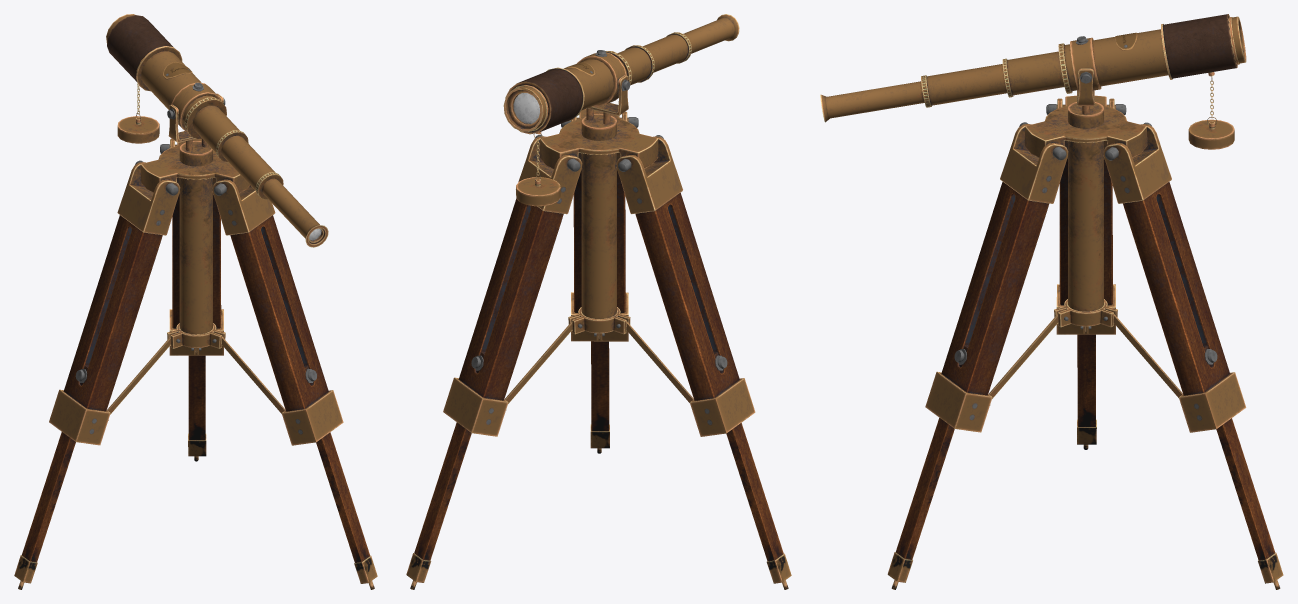
Rendered from Teleskope.fbx.
3 renders of one model, left to right at view 1: azimuth 30°, elevation 25°; view 2: azimuth 150°, elevation 25°; view 3: azimuth 270°, elevation 25°, orthographic. The views are drawn at different scales.
Parts seen in each view (by area): view 1: Cylinder.094; view 2: Cylinder.094; view 3: Cylinder.094.
Boxes of the visible parts, left/top/right/bottom form: Cylinder.094: left=14, top=14, right=377, bottom=589; Cylinder.094: left=406, top=14, right=791, bottom=589; Cylinder.094: left=820, top=14, right=1283, bottom=589.
Size of the model in its own units: 64.48 by 109 by 86.56.
